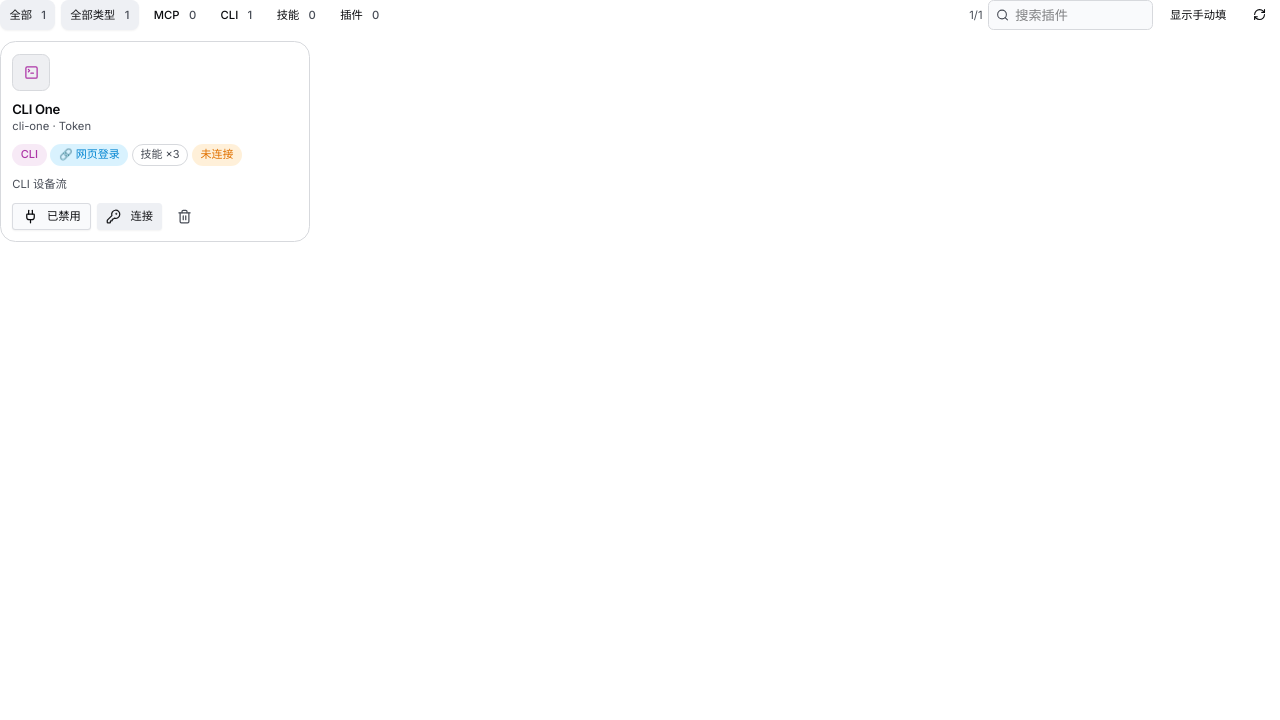
Test: CapabilityMarketPanel › 重开连接弹窗会恢复设备流，关闭时取消并停止轮询
Step 1. Click the button "连接" → (130, 216), box top-left (97, 203), bottom-right (162, 230)
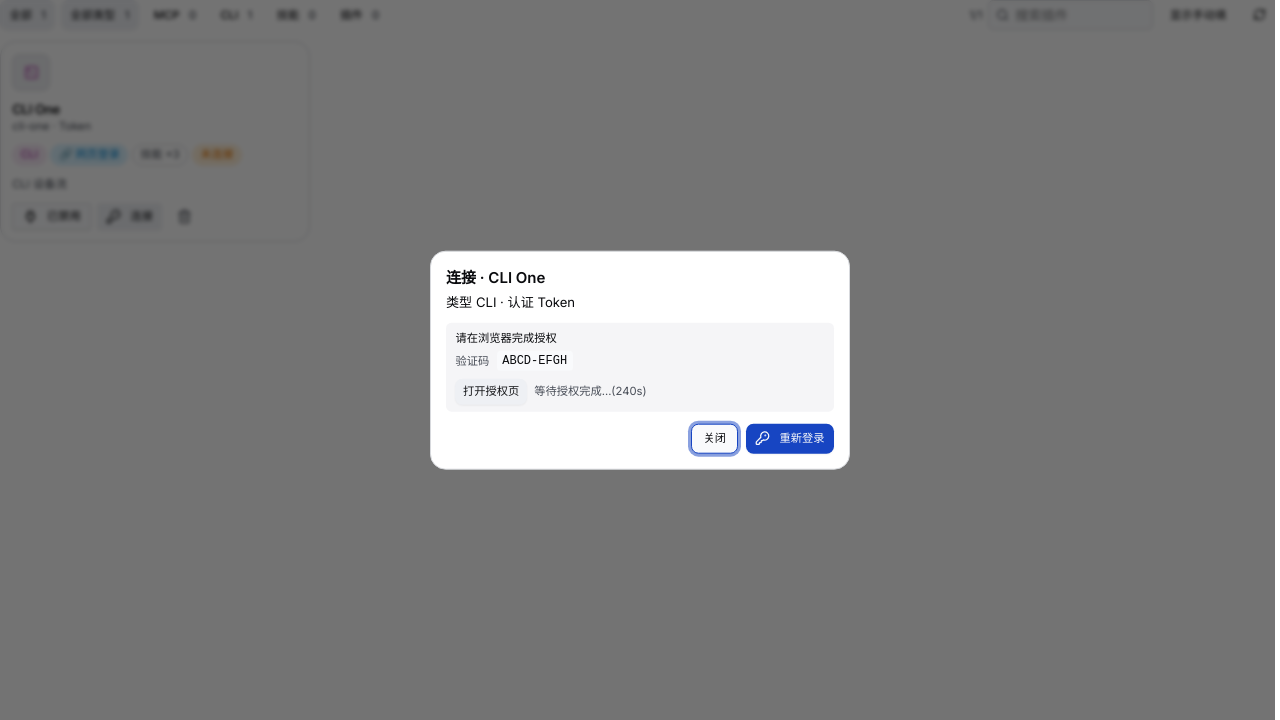
Expected: the text "ABCD-EFGH" is shown, top-left (497, 351), bottom-right (573, 371)
Step 2. Click the button "关闭" → (715, 438), box top-left (691, 423), bottom-right (738, 453)
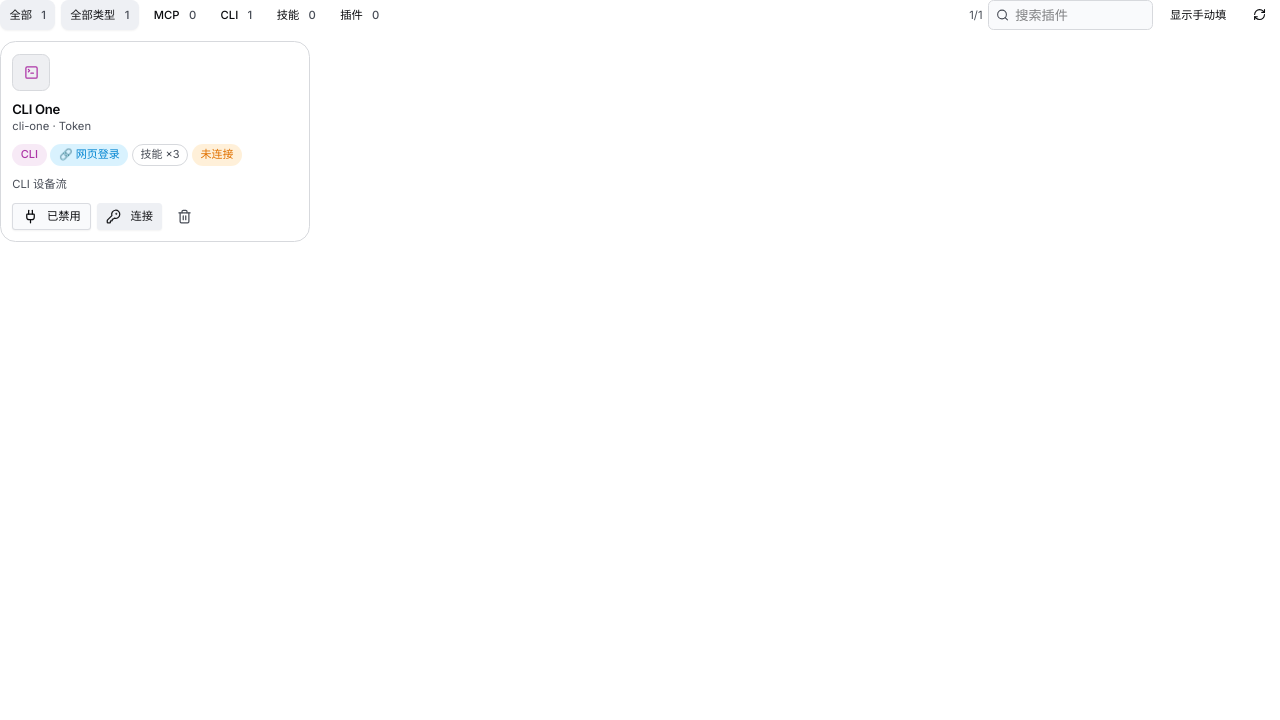
Expected: the text "ABCD-EFGH" is gone
